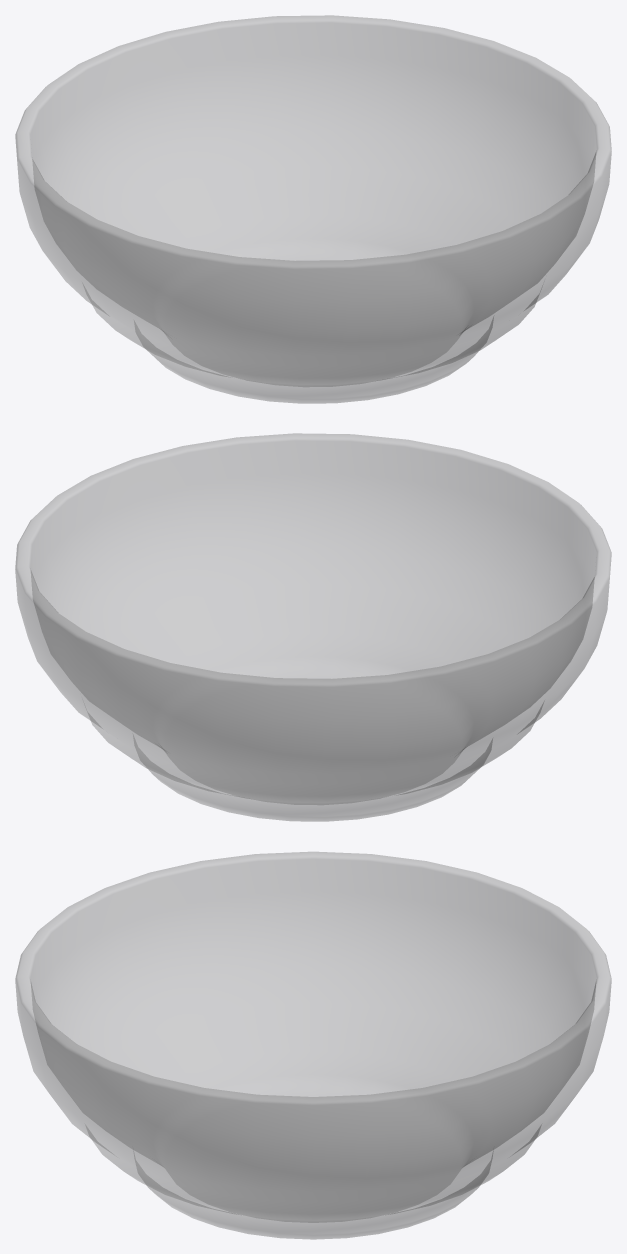
The model's file is Bowl_11.glb.
3 views of the same model, one above another, from view 1: azimuth 30°, elevation 25°; view 2: azimuth 150°, elevation 25°; view 3: azimuth 270°, elevation 25° (orthographic).
Visible parts, largest first — view 1: Bowl_11; view 2: Bowl_11; view 3: Bowl_11.
Part boxes in pixels (x1,y1,x2,y2): Bowl_11: (15, 15, 611, 403); Bowl_11: (15, 433, 611, 821); Bowl_11: (15, 852, 611, 1239).
Bounding box in the file's own units: 0.1955 × 0.0714 × 0.1955.
Materials: 2 (1 with a texture image).
